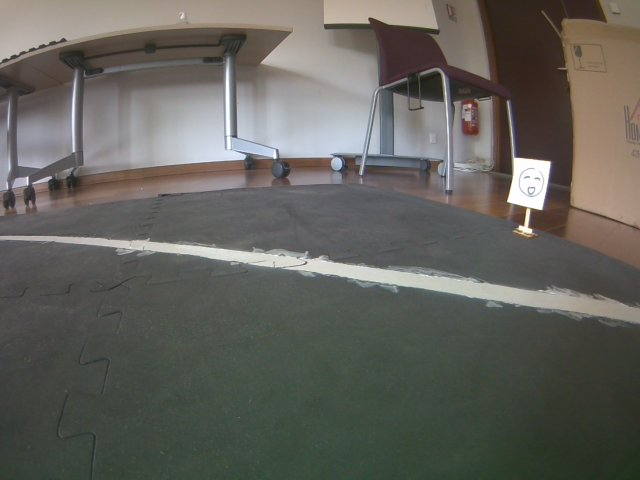Smiley: (506, 156, 552, 213)
